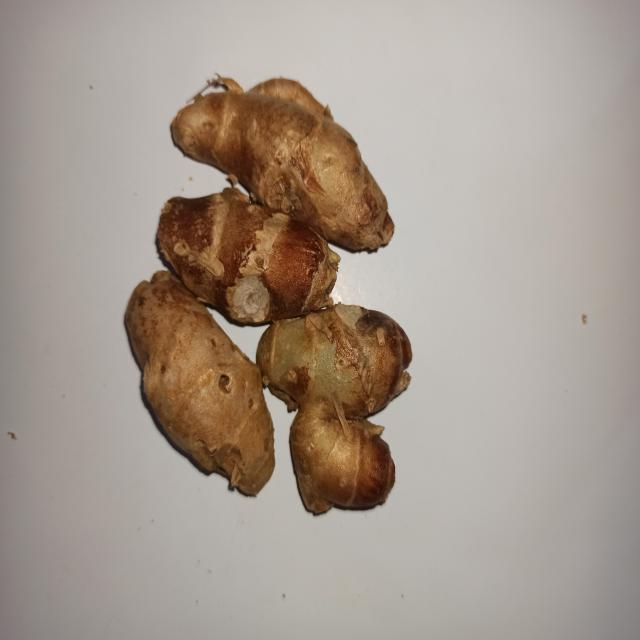ginger: (125, 80, 406, 502)
